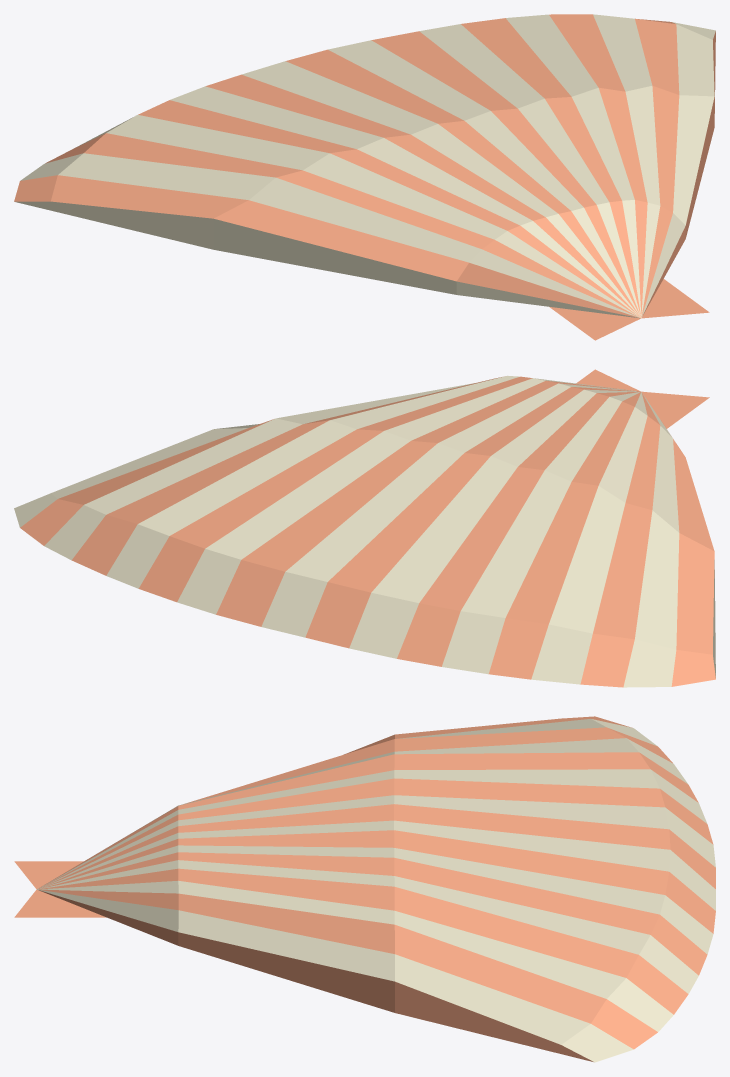
The model's file is shell_2.glb.
The picture shows the model from 3 angles, top to bottom: view 1: azimuth 30°, elevation 25°; view 2: azimuth 150°, elevation 25°; view 3: azimuth 270°, elevation 25°; orthographic projection.
Visible parts, largest first — view 1: shell_2; view 2: shell_2; view 3: shell_2.
Boxes of the visible parts, left/top/right/bottom form: shell_2: left=14, top=14, right=715, bottom=340; shell_2: left=14, top=369, right=715, bottom=687; shell_2: left=14, top=716, right=715, bottom=1062.
Bounding box in the file's own units: 0.117 × 0.0114 × 0.1003.
1 material, 1 textured.
